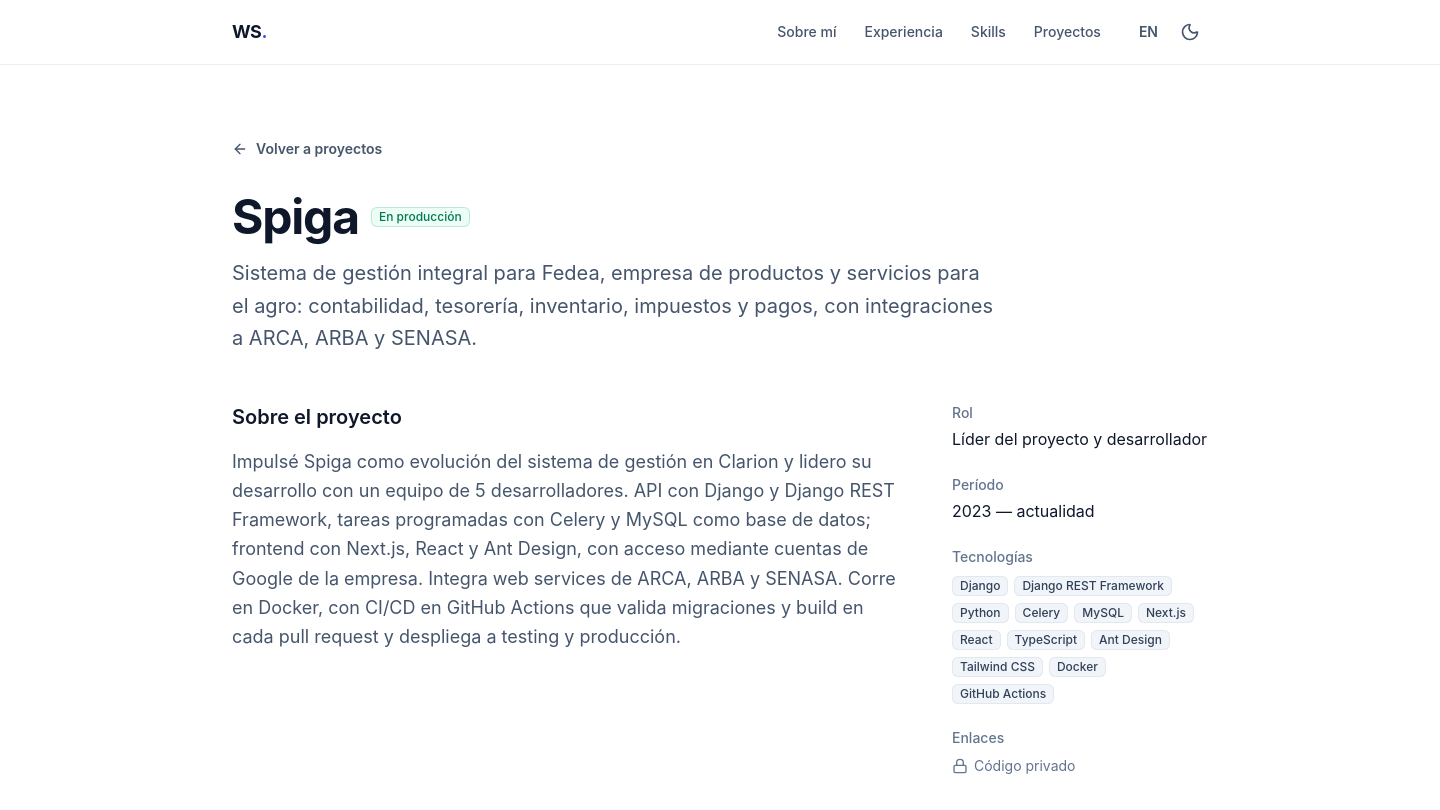
Navegación entre rutas › "Volver a proyectos" vuelve a Home y lleva a la card del proyecto
Step 1. Click the button "Volver a proyectos" → (307, 149), box x1=216 y1=129 x2=398 y2=169
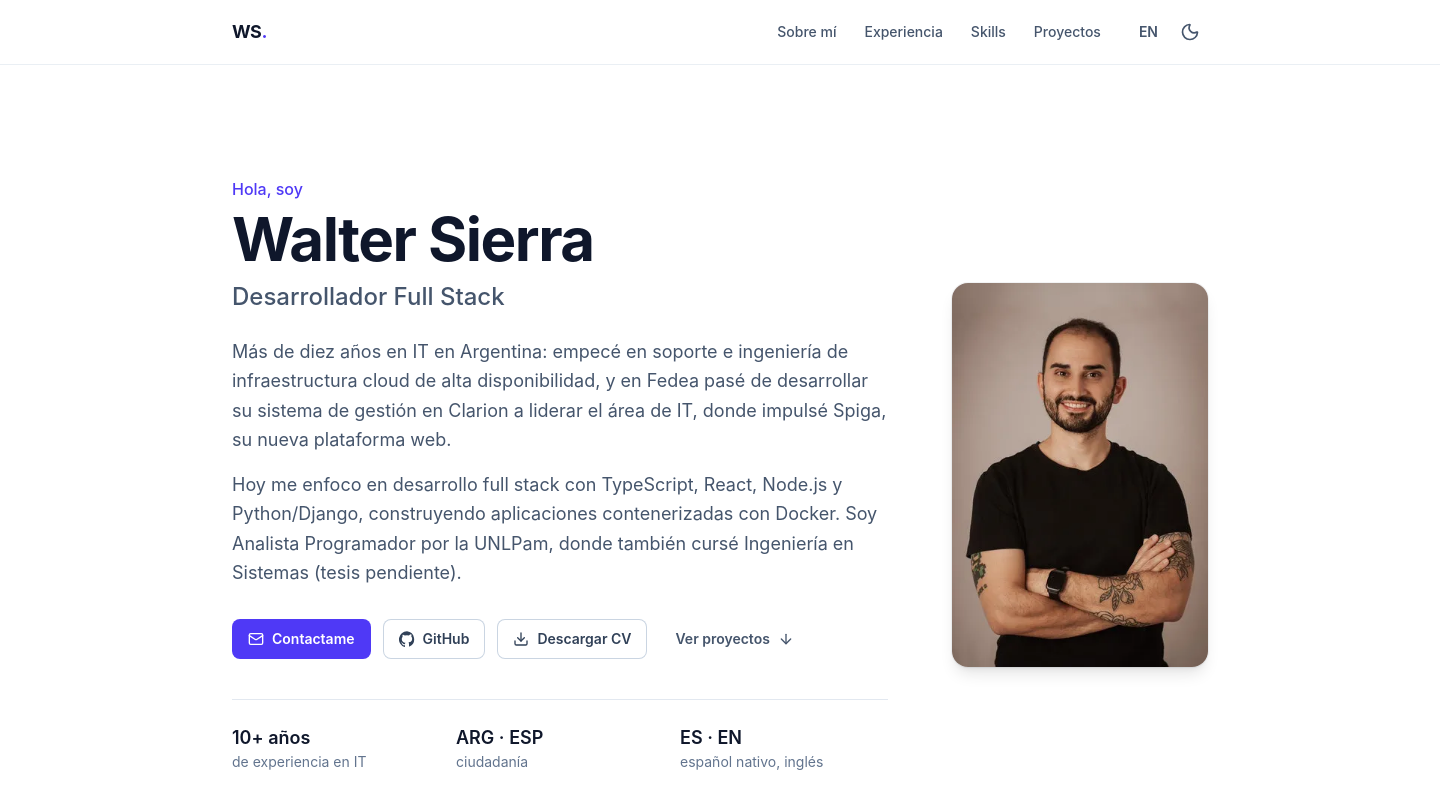
Now the heading "Walter Sierra" is shown, box x1=232 y1=203 x2=594 y2=275
